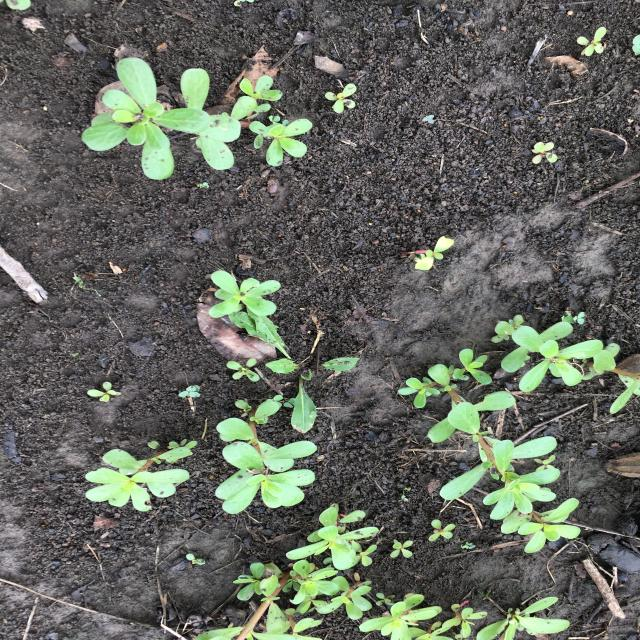Purslane: (398, 349, 581, 553), (82, 58, 313, 180), (491, 314, 640, 414), (194, 559, 341, 640), (215, 400, 317, 514), (85, 439, 198, 512), (286, 503, 380, 570), (358, 593, 452, 640), (208, 270, 282, 319), (317, 573, 372, 620), (400, 236, 454, 270), (442, 604, 488, 638), (325, 83, 357, 114), (577, 27, 606, 56), (226, 358, 260, 382), (86, 382, 122, 402), (428, 520, 456, 542), (532, 142, 558, 164), (390, 539, 413, 558)
